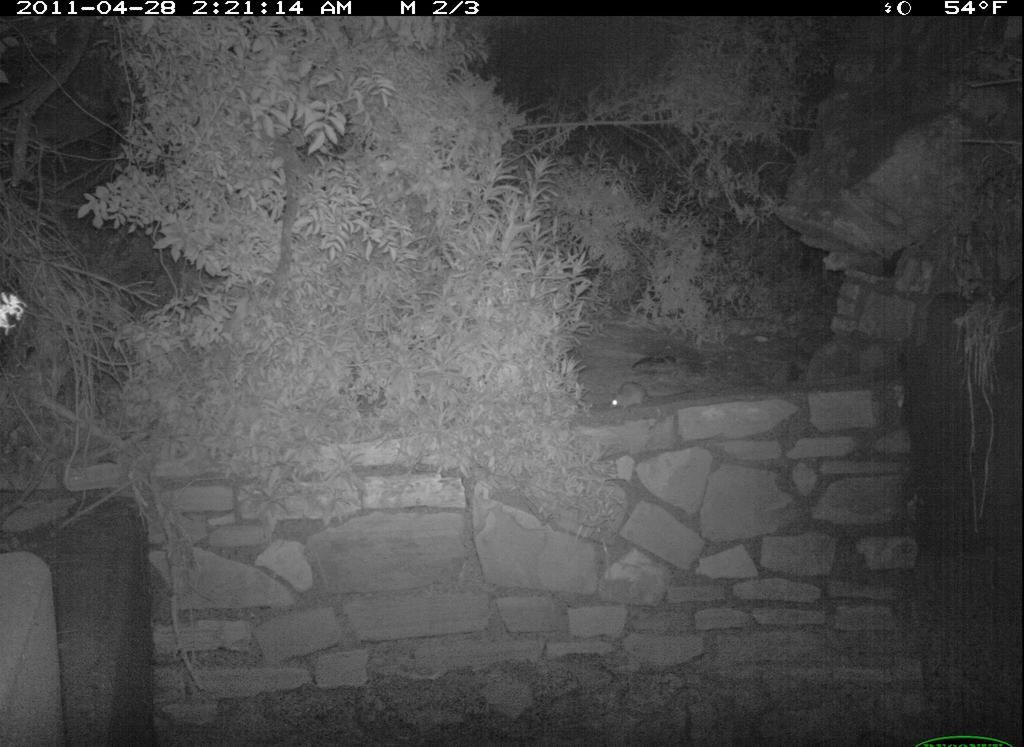rodent: (601, 379, 657, 410)
